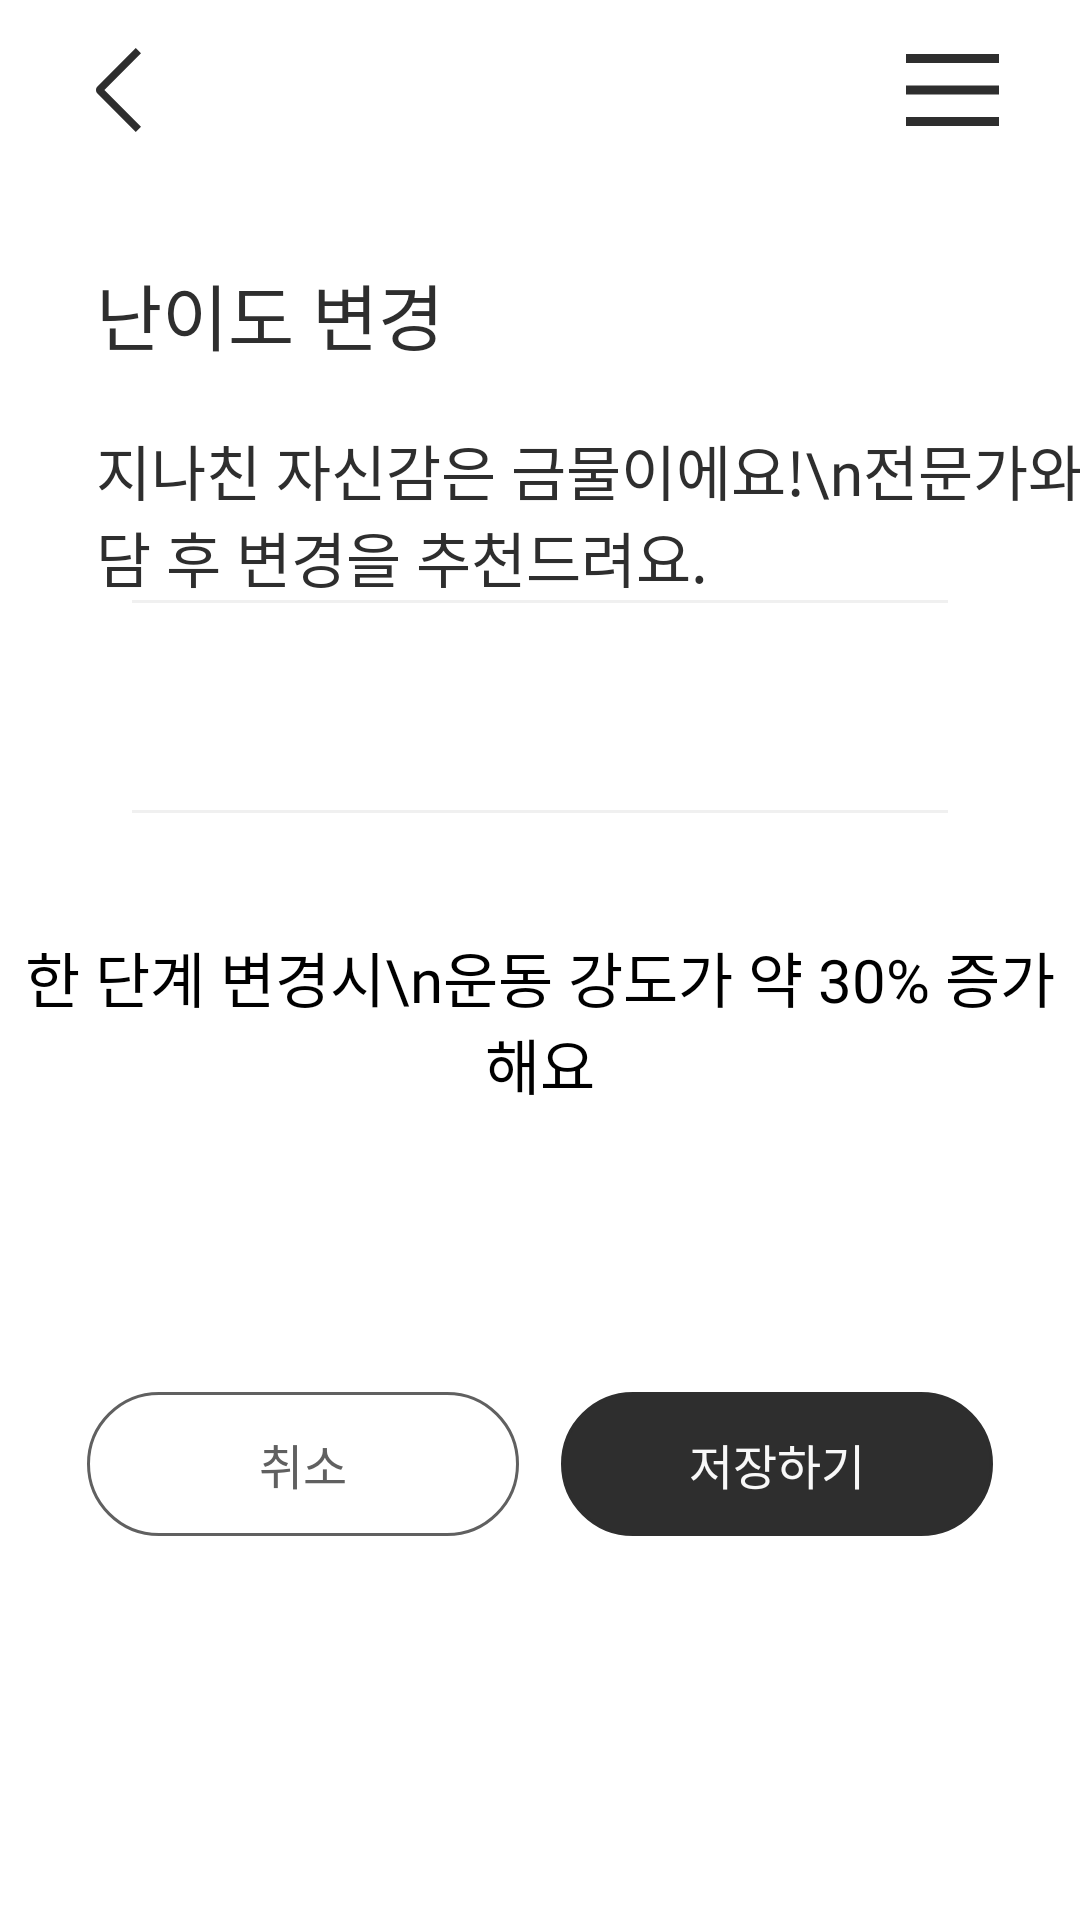

Screen size 1080×1920. Icon name, then its center in pixels as [x,y]:
menu: [952,90]
page back: [118,90]
